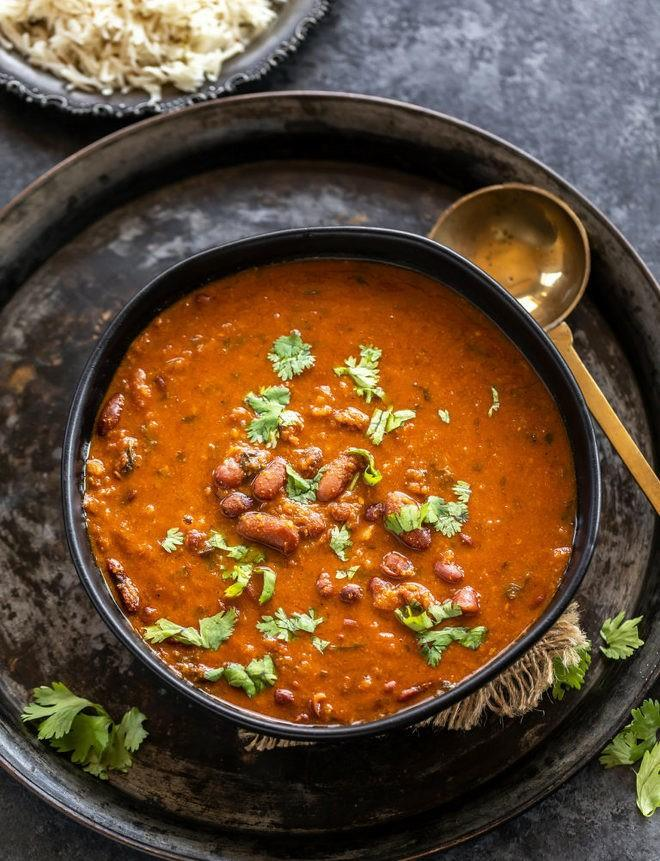RajmaCurry: (77, 253, 576, 725)
